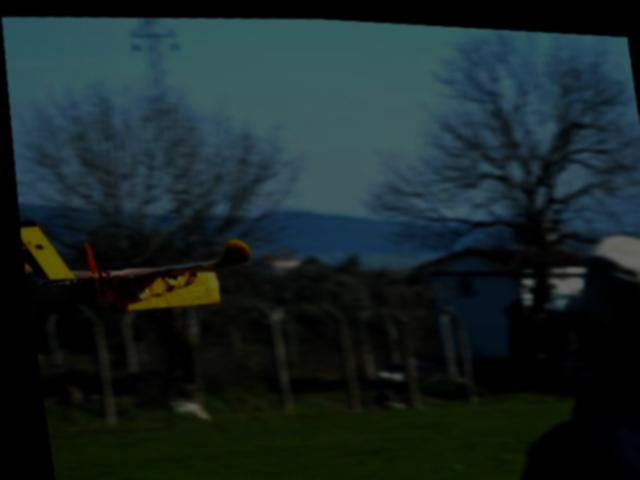iha: (14, 199, 271, 327)
